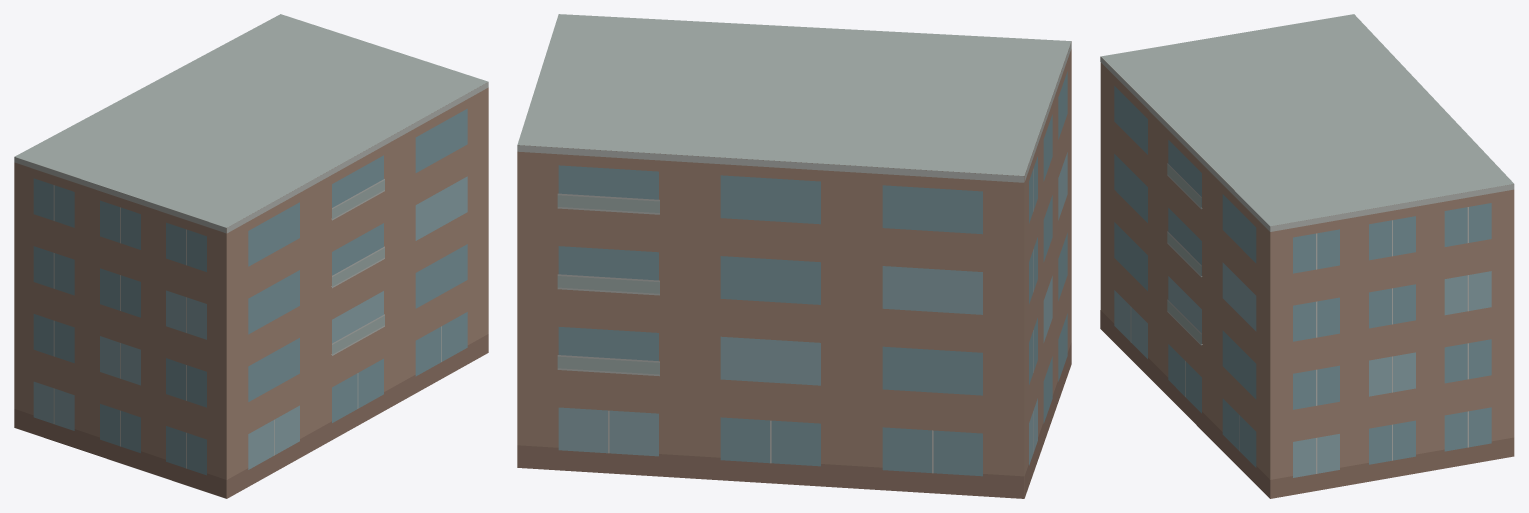
The model's file is survey-upis-32654335.glb.
The picture shows the model from 3 angles, left to right: view 1: azimuth 30°, elevation 25°; view 2: azimuth 150°, elevation 25°; view 3: azimuth 270°, elevation 25°; orthographic projection. The views are drawn at different scales.
Parts seen in each view (by area): view 1: survey-upis-32654335.tmp; view 2: survey-upis-32654335.tmp; view 3: survey-upis-32654335.tmp.
Part boxes in pixels (left/top/right/bottom): survey-upis-32654335.tmp: left=14, top=14, right=488, bottom=498; survey-upis-32654335.tmp: left=517, top=14, right=1071, bottom=498; survey-upis-32654335.tmp: left=1100, top=14, right=1514, bottom=498.
Size of the model in its own units: 19.56 by 11.7 by 16.11.
